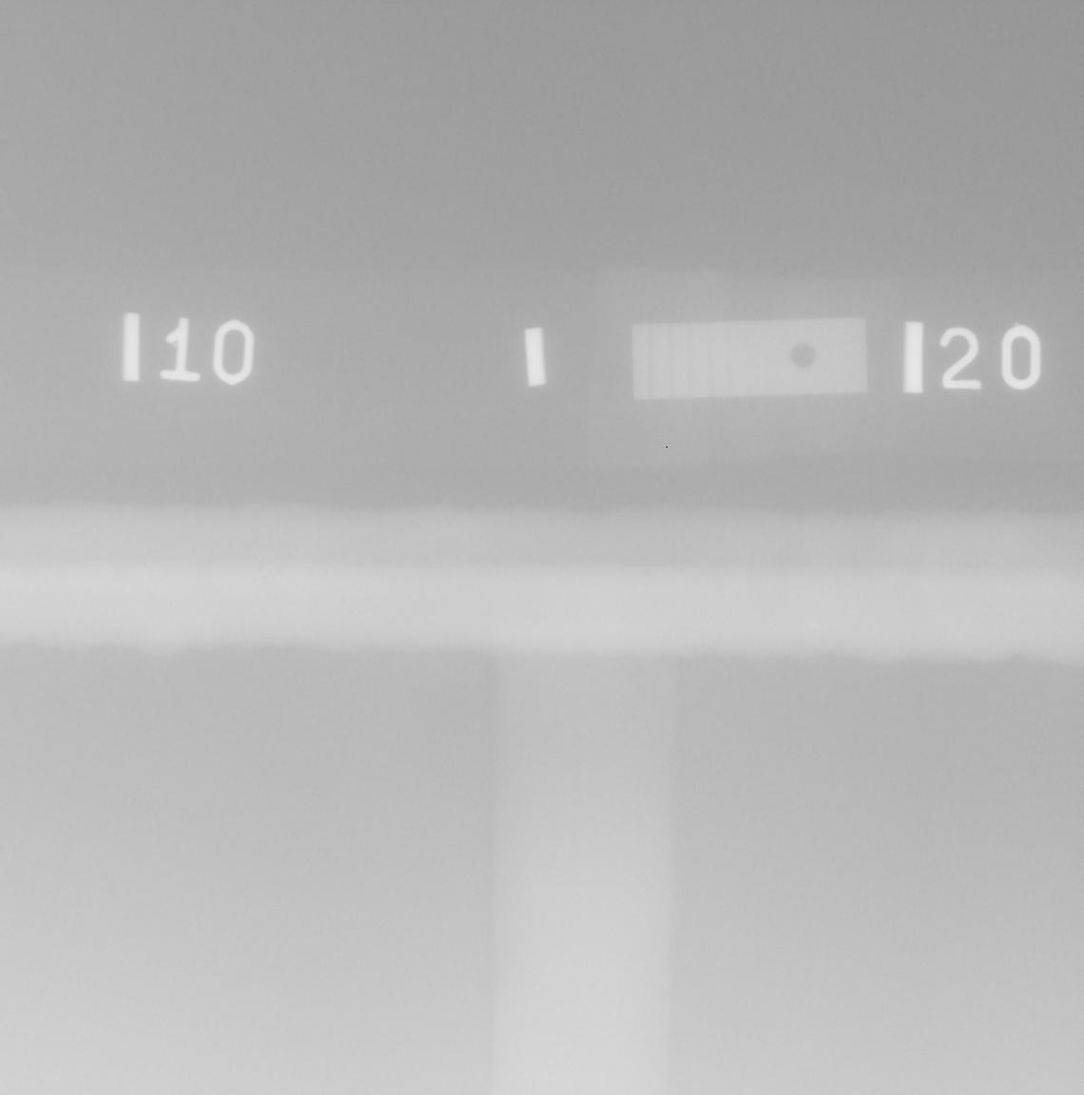Reference Standard 1: (632, 316, 868, 401)
